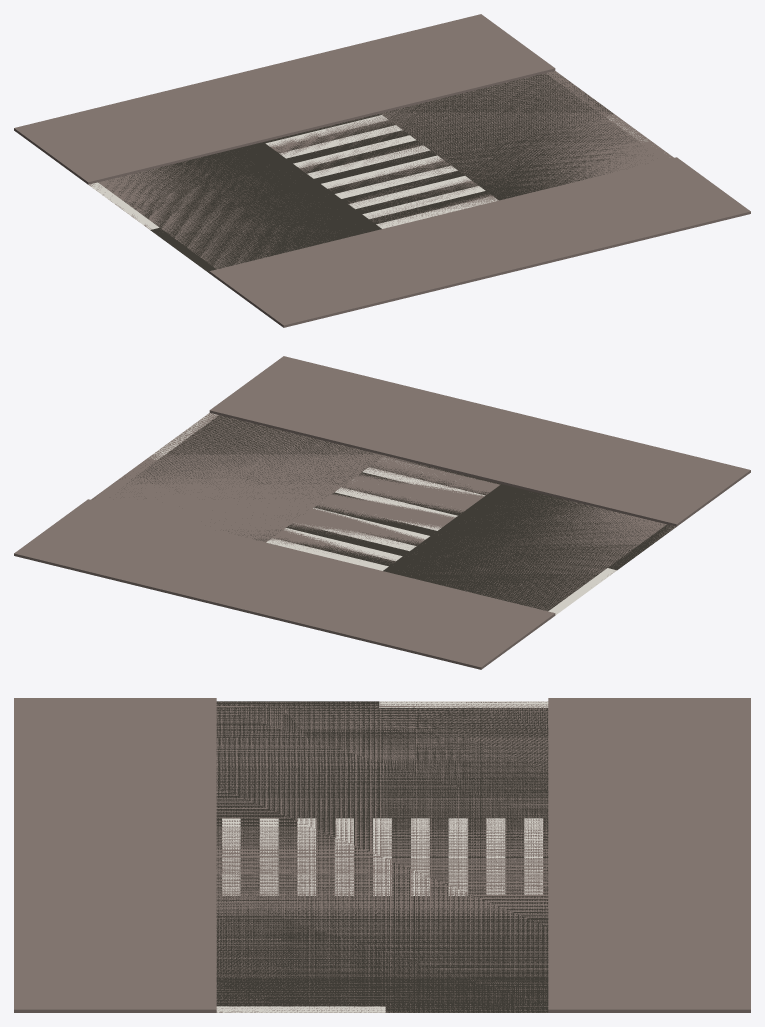
Rendered from Env_1lane_Crosswalk.fbx.
The picture shows the model from 3 angles, top to bottom: view 1: azimuth 30°, elevation 25°; view 2: azimuth 150°, elevation 25°; view 3: azimuth 270°, elevation 25°; orthographic projection. The views are drawn at different scales.
Visible parts, largest first — view 1: Env_1lane_Crosswalk; view 2: Env_1lane_Crosswalk; view 3: Env_1lane_Crosswalk.
Boxes of the visible parts, bbox=[...] form: Env_1lane_Crosswalk: bbox=[14, 14, 750, 327]; Env_1lane_Crosswalk: bbox=[14, 356, 750, 669]; Env_1lane_Crosswalk: bbox=[14, 698, 750, 1012].
Size of the model in its own units: 2000 by 10 by 2000.
